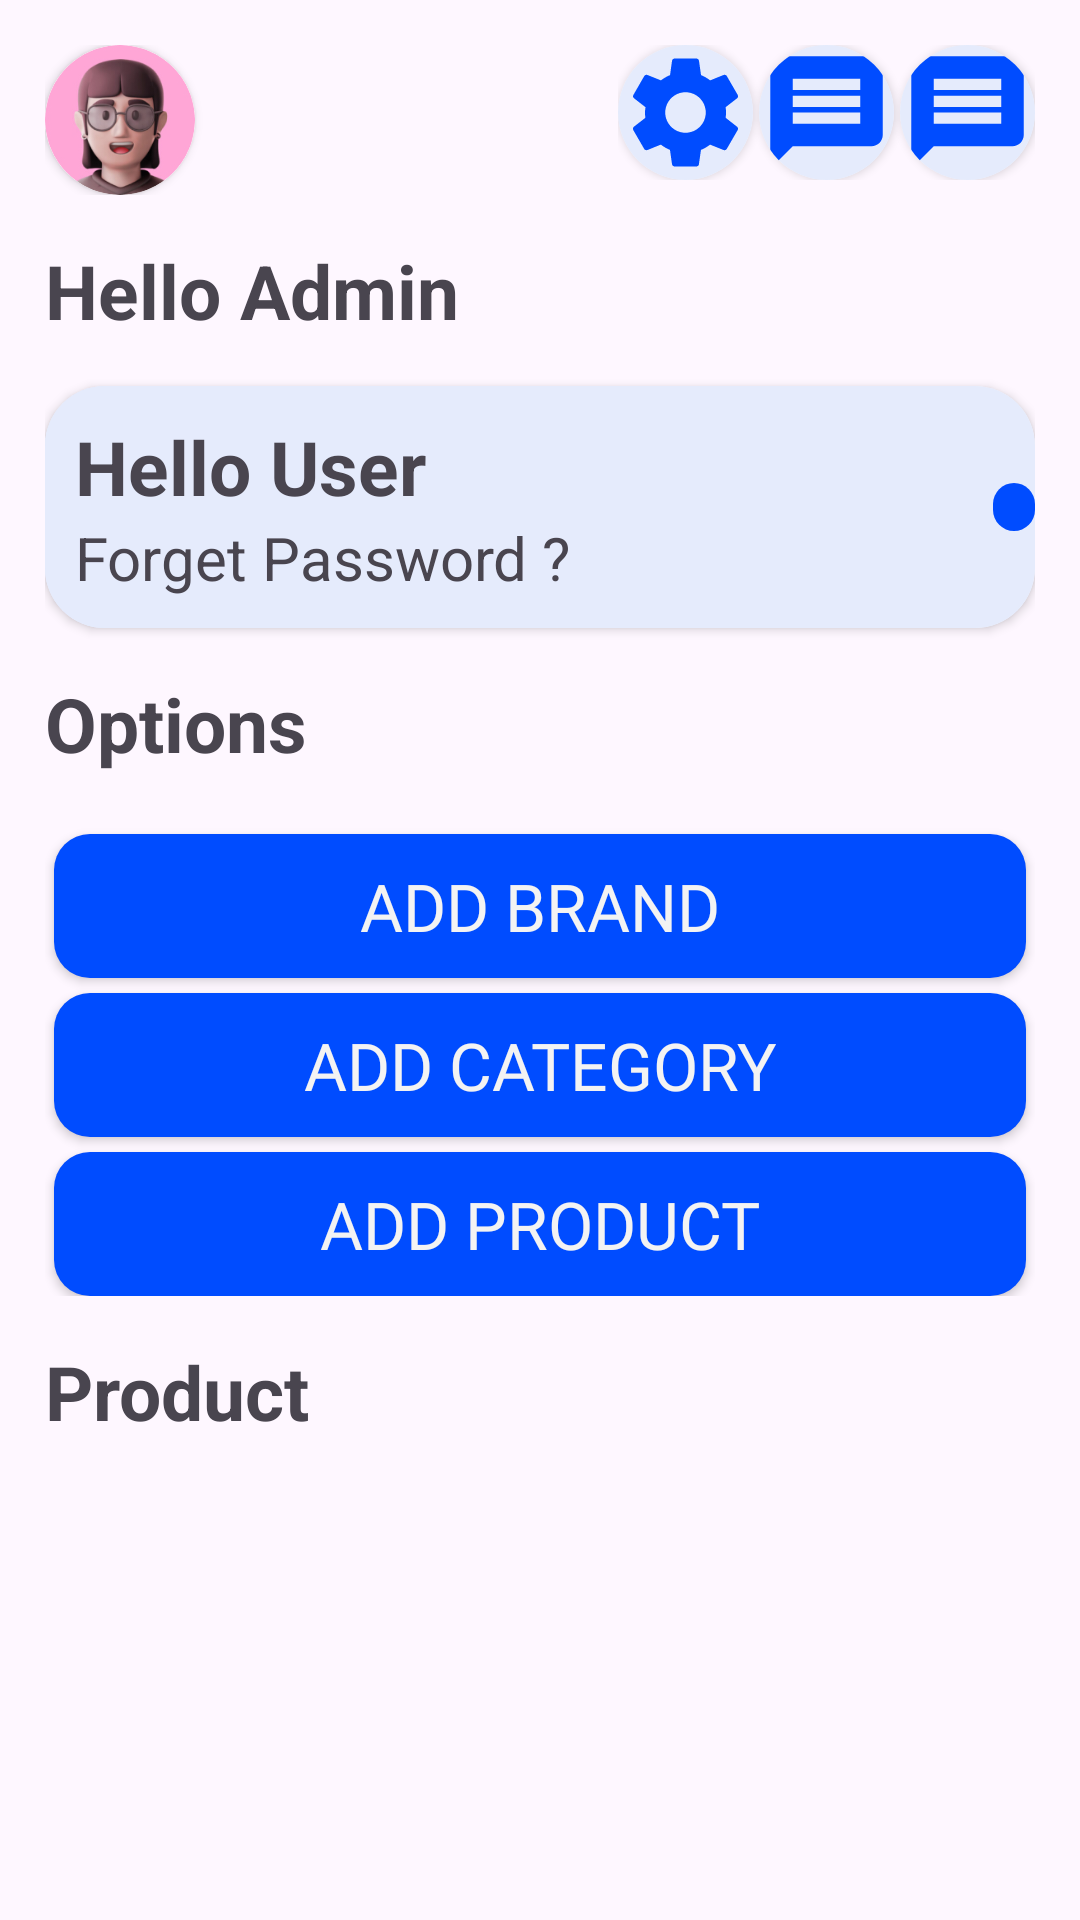

Screen size 1080 x 1920. Icon name, then its center in pixels as [x,y]:
message: [826,112], [967,112]
settings: [685,112]
user: [120,120]
